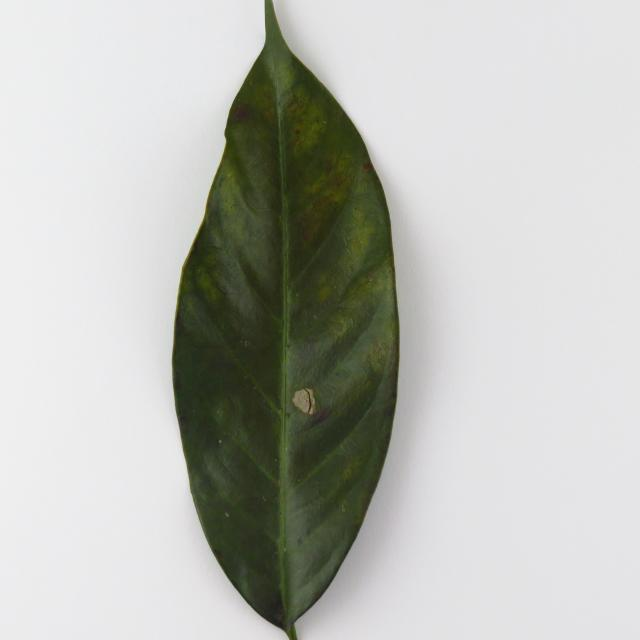DeficienciaNutricional-Magnesio: (172, 2, 399, 638)
